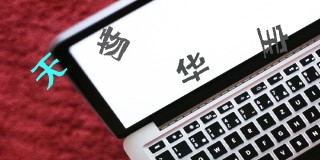华: (177, 50, 210, 85)
天: (30, 52, 68, 89)
宝: (256, 24, 289, 59)
物: (96, 26, 131, 62)
